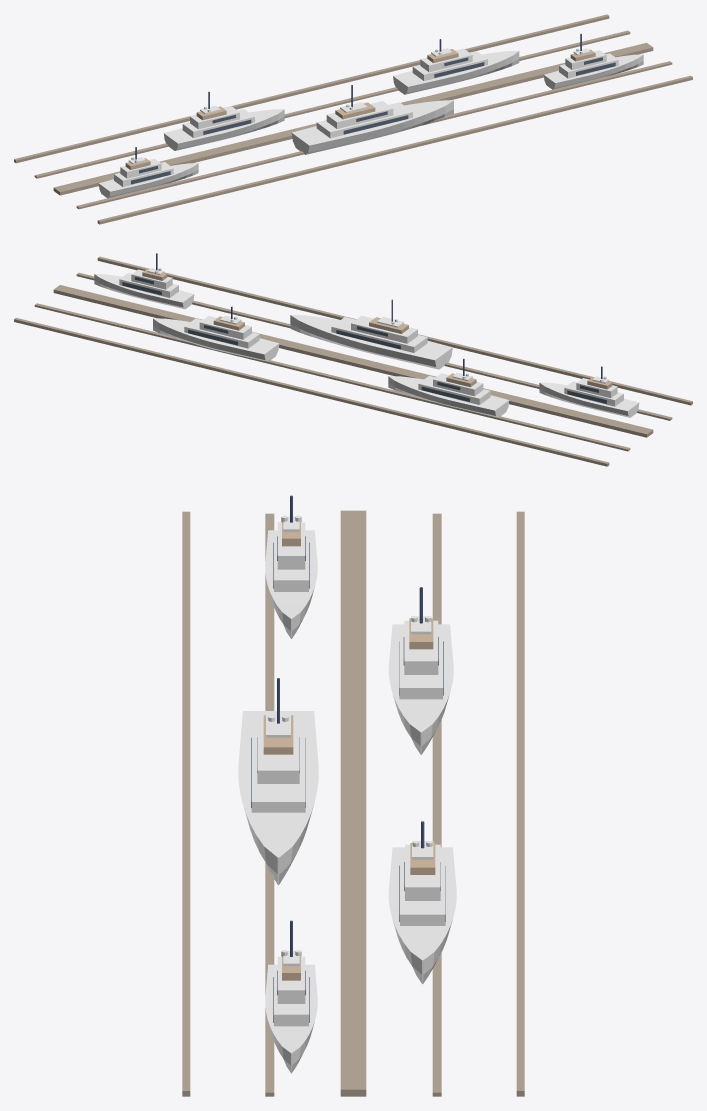
File: superyacht_luxury_pack.glb
3 views of the same model, one above another, from view 1: azimuth 30°, elevation 25°; view 2: azimuth 150°, elevation 25°; view 3: azimuth 270°, elevation 25° (orthographic). The views are drawn at different scales.
Visible parts, largest first — view 1: superyacht_luxury_pack; view 2: superyacht_luxury_pack; view 3: superyacht_luxury_pack.
Part boxes in pixels (x1=…): superyacht_luxury_pack: x1=14, y1=14, x2=692, y2=224; superyacht_luxury_pack: x1=14, y1=253, x2=692, y2=466; superyacht_luxury_pack: x1=182, y1=495, x2=524, y2=1096.
Size of the model in its own units: 240 by 21 by 60.
